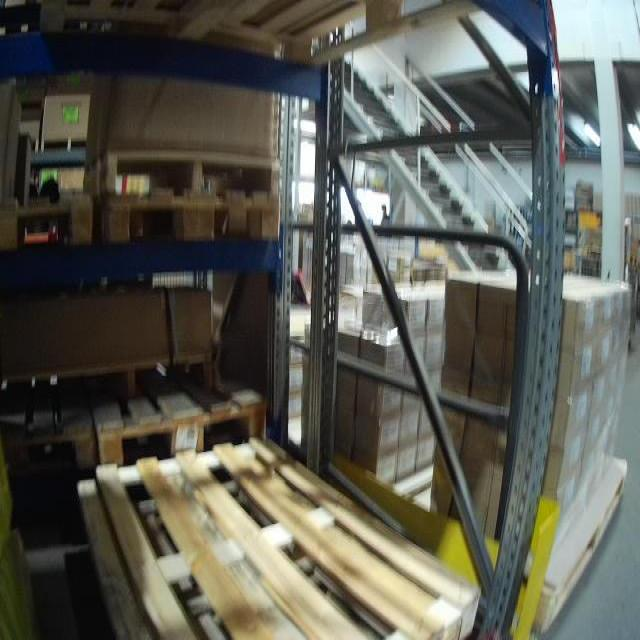pallet: (96, 445, 480, 637), (405, 441, 631, 638), (3, 4, 488, 79), (98, 355, 271, 469), (89, 193, 286, 247), (83, 144, 289, 194), (1, 387, 92, 481), (2, 190, 90, 245)
pallet_truck: (281, 261, 330, 313)
